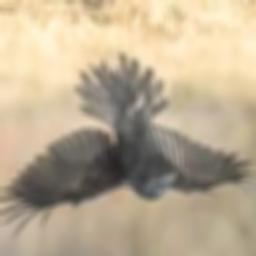Crow: (0, 55, 256, 240)
